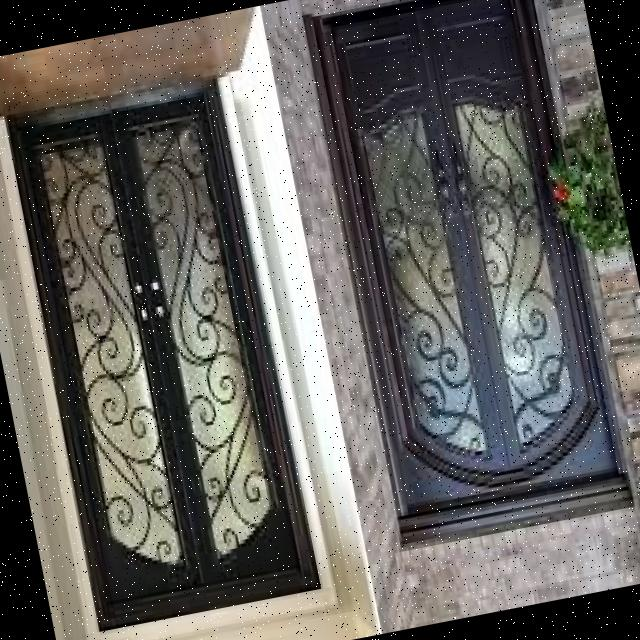Door: (5, 74, 322, 637), (313, 0, 633, 543)
